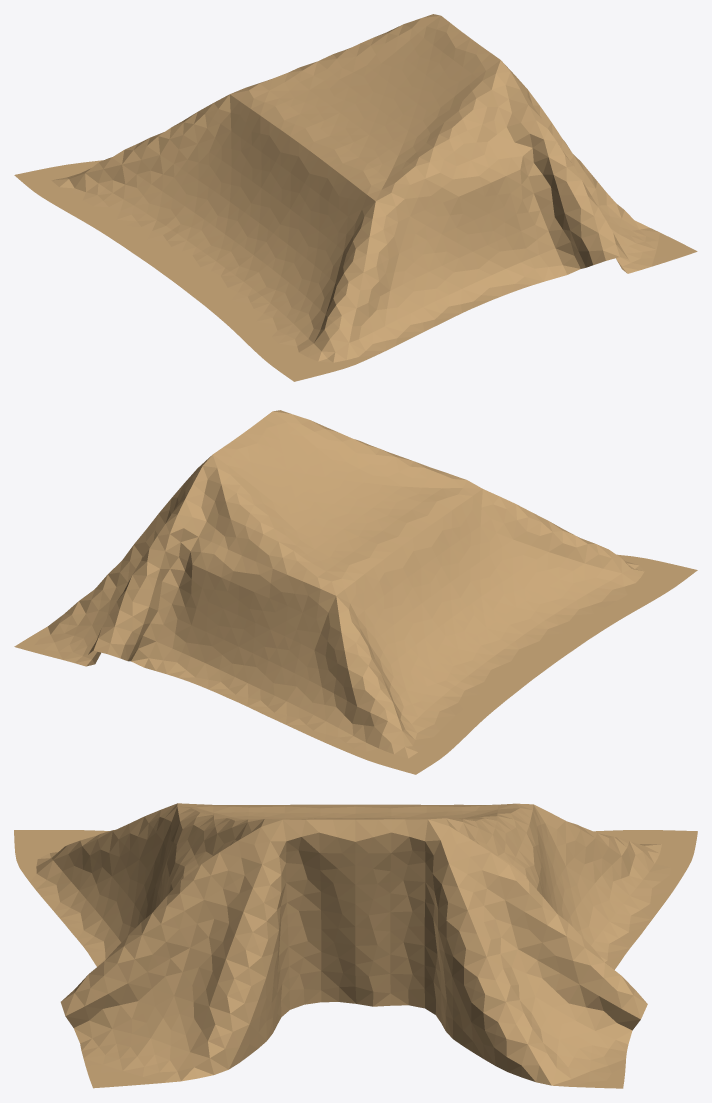
The model's file is level_1.glb.
3 renders of one model, top to bottom at view 1: azimuth 30°, elevation 25°; view 2: azimuth 150°, elevation 25°; view 3: azimuth 270°, elevation 25°, orthographic. The views are drawn at different scales.
Parts seen in each view (by area): view 1: world; view 2: world; view 3: world.
Part boxes in pixels (x1,y1,x2,y2): world: (14, 14, 697, 381); world: (14, 410, 697, 774); world: (14, 803, 697, 1088).
Bounding box in the file's own units: 0.5404 × 0.1936 × 0.6035.
